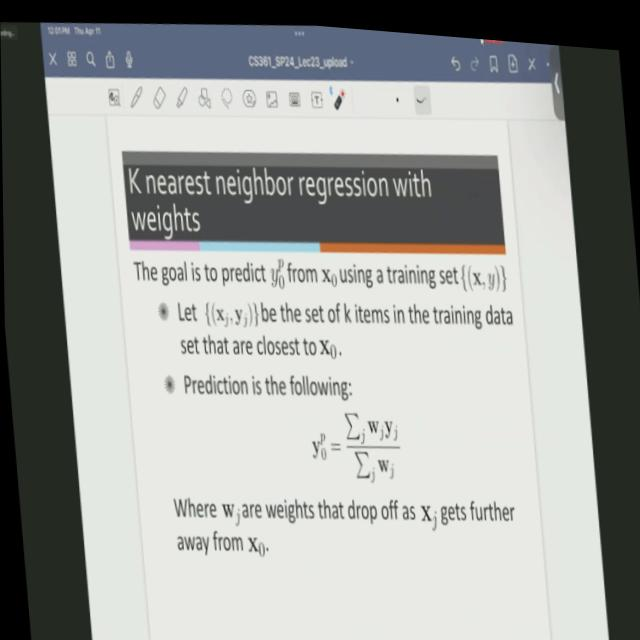equations: (294, 393, 410, 490)
